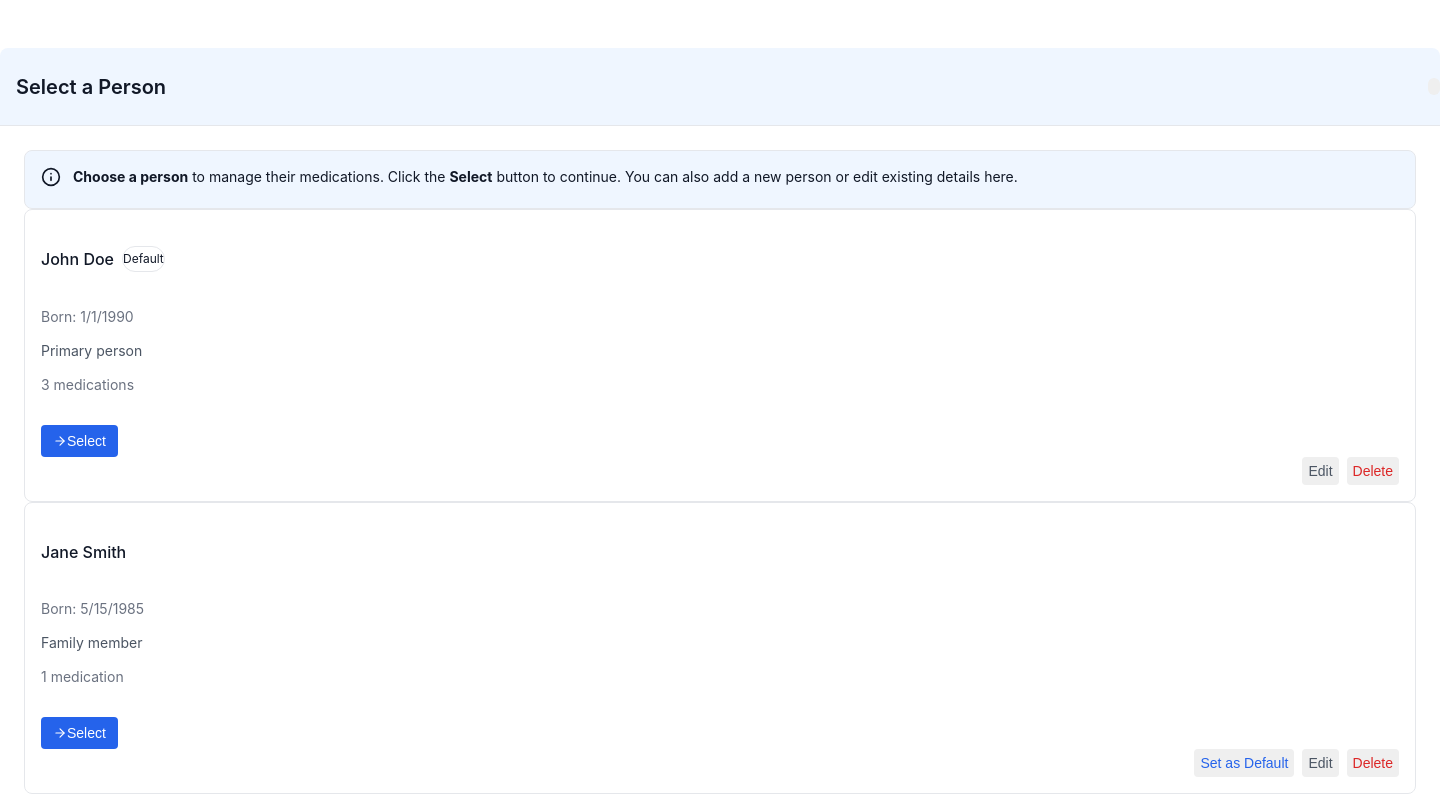
Test case: PersonManager › cancels delete when Cancel clicked
Check: the heading "Jane Smith" is shown, box [41,540,126,564]
Click the 2nd button "Delete".
click(1373, 763)  # box [1346,749,1399,777]
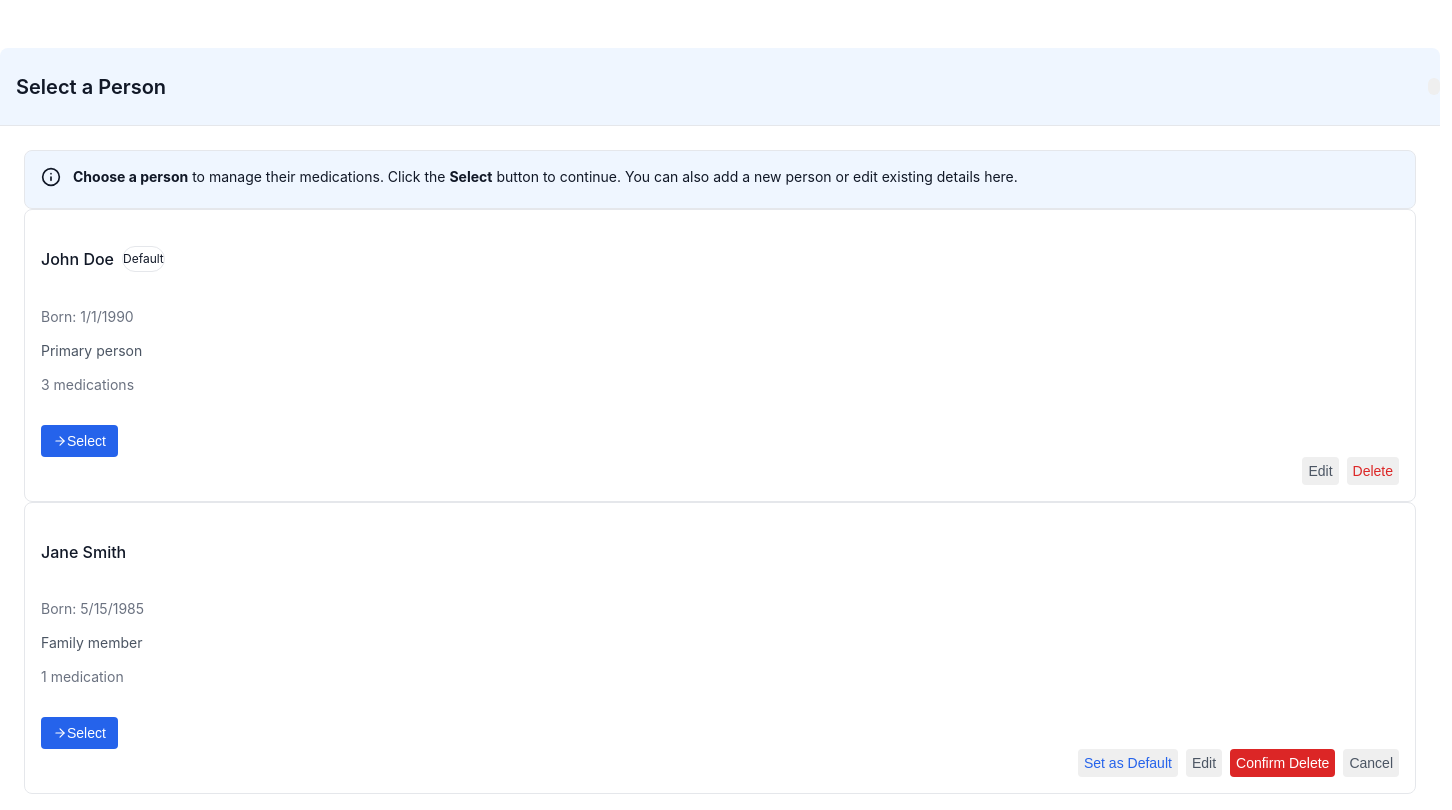
Click the button "Cancel".
click(1371, 763)  # box [1343,749,1399,777]
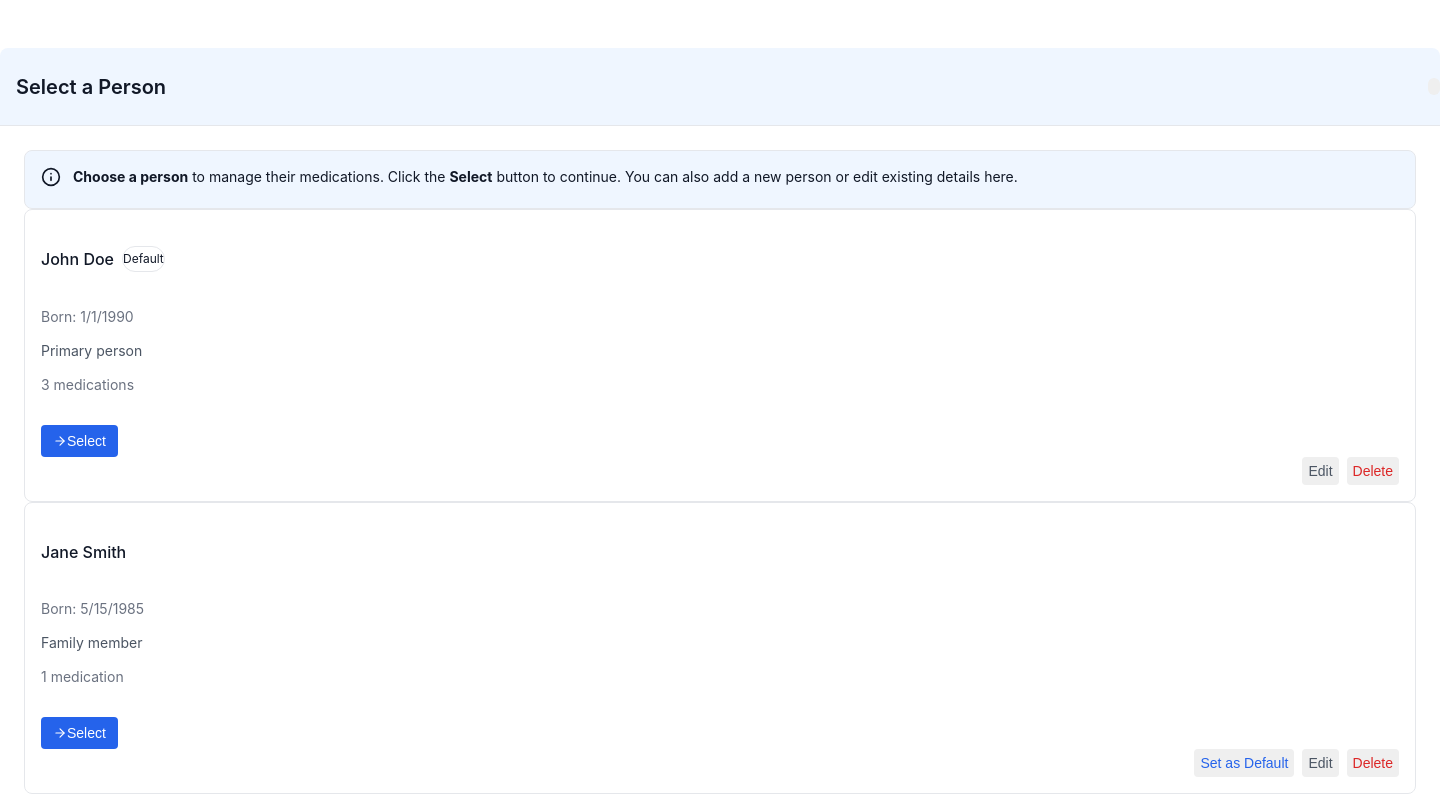
Check: the button "Confirm Delete" is gone
Check: the button "Cancel" is gone
